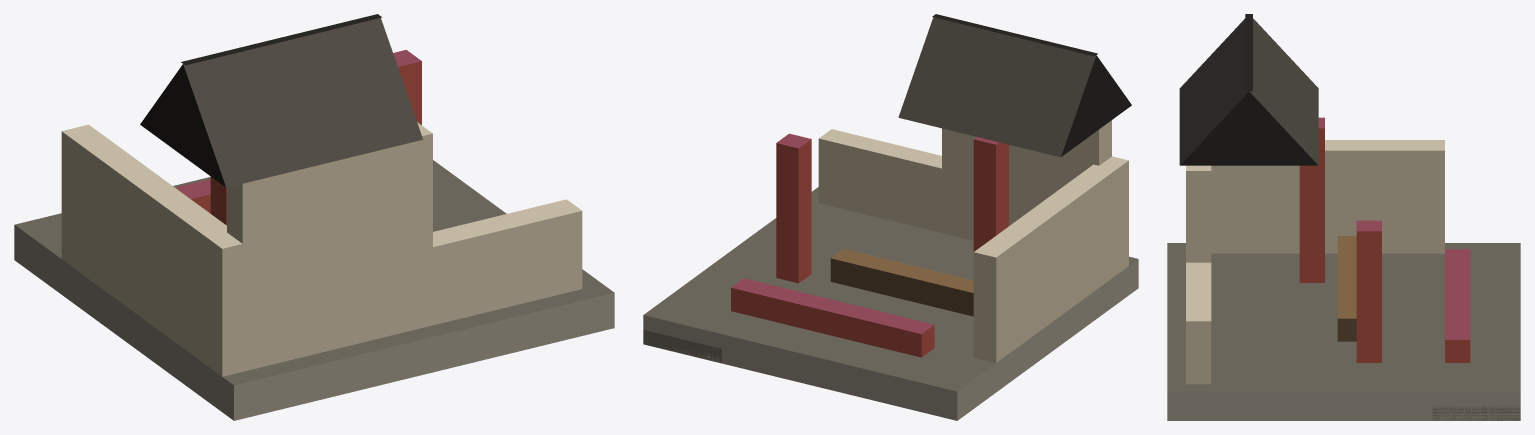
File: bld_sectruin.glb
The picture shows the model from 3 angles, left to right: view 1: azimuth 30°, elevation 25°; view 2: azimuth 150°, elevation 25°; view 3: azimuth 270°, elevation 25°; orthographic projection. The views are drawn at different scales.
Visible parts, largest first — view 1: bld_sectruin; view 2: bld_sectruin; view 3: bld_sectruin.
Part boxes in pixels (left/top/right/bottom): bld_sectruin: left=14, top=14, right=614, bottom=420; bld_sectruin: left=643, top=14, right=1138, bottom=420; bld_sectruin: left=1167, top=14, right=1520, bottom=420.
Size of the model in its own units: 1.12 by 0.9 by 1.12.
Materials: 1 (1 with a texture image).
